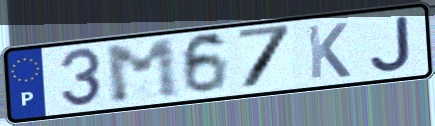3: (56, 44, 106, 111)
6: (178, 30, 233, 99)
7: (235, 23, 294, 93)
J: (367, 13, 414, 74)
K: (304, 21, 353, 82)
M: (102, 36, 184, 107)
